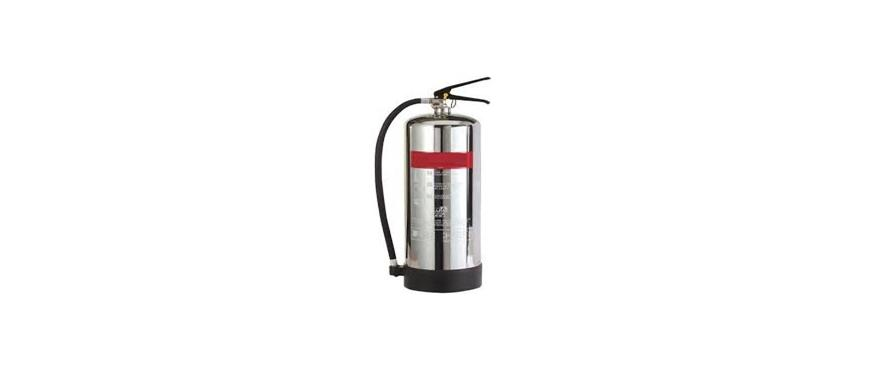Fire Extinguisher: (369, 73, 508, 293)
